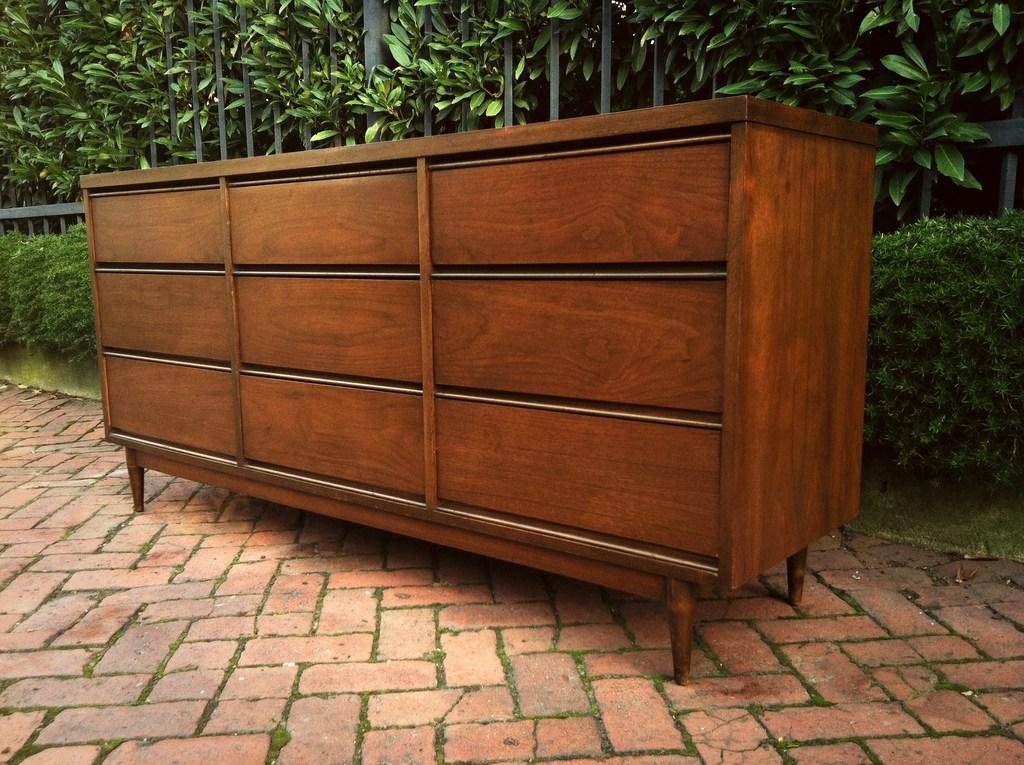cabinet_door: (444, 396, 726, 536), (436, 286, 726, 400), (432, 162, 725, 262), (242, 375, 430, 463), (247, 282, 416, 360), (234, 187, 424, 254), (104, 358, 238, 443), (96, 271, 232, 346), (90, 183, 222, 257)
handle: (426, 258, 736, 302), (435, 390, 725, 437), (234, 253, 428, 293), (244, 360, 413, 400), (422, 132, 728, 151), (105, 346, 232, 378), (100, 259, 229, 288), (225, 169, 417, 187), (82, 182, 216, 194)
